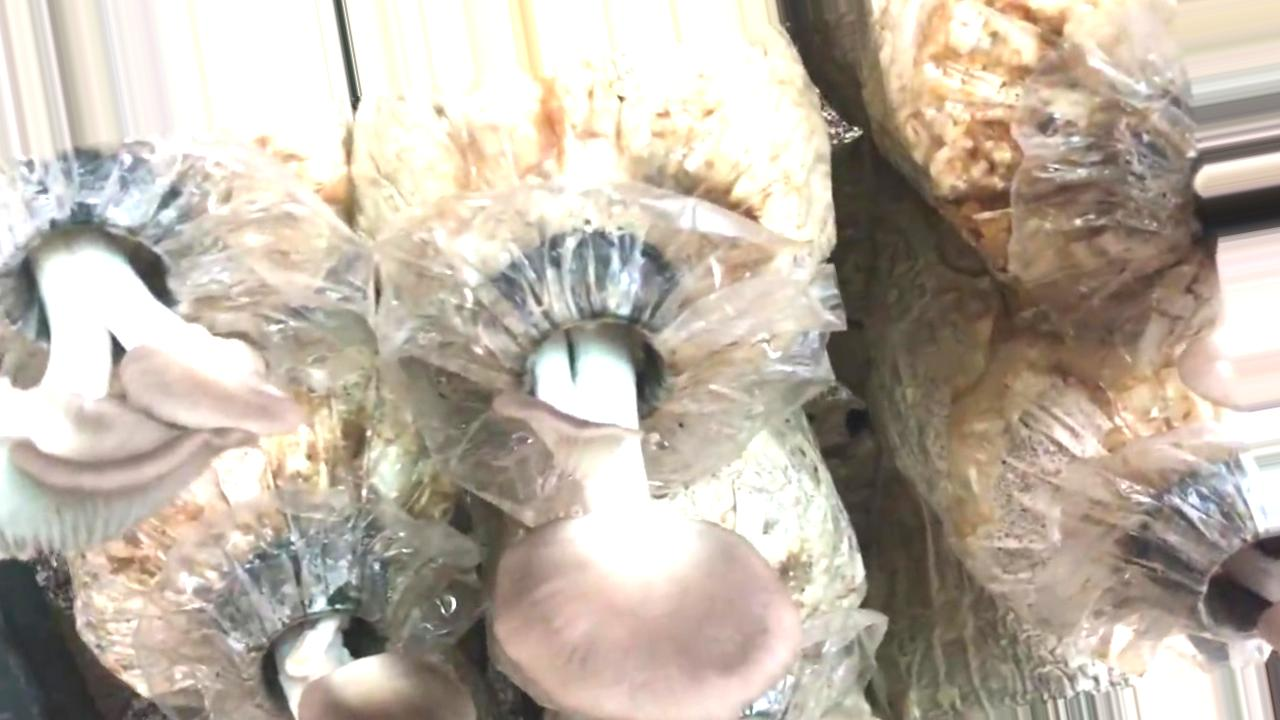nam: (494, 248, 802, 720), (1, 162, 300, 555), (232, 552, 475, 720)
